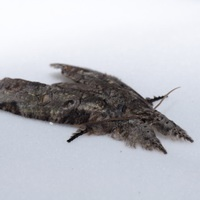insect: (0, 63, 192, 153)
